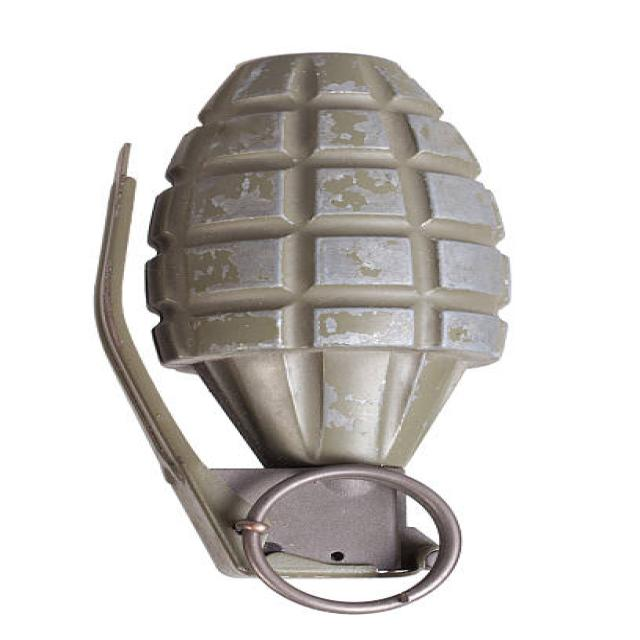grenade: (64, 44, 540, 621)
